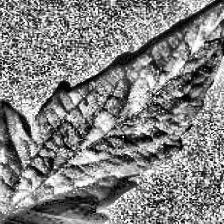Anthracnose Fruit Rot: (0, 169, 41, 208), (49, 170, 104, 192), (191, 18, 224, 49), (83, 113, 118, 142)
